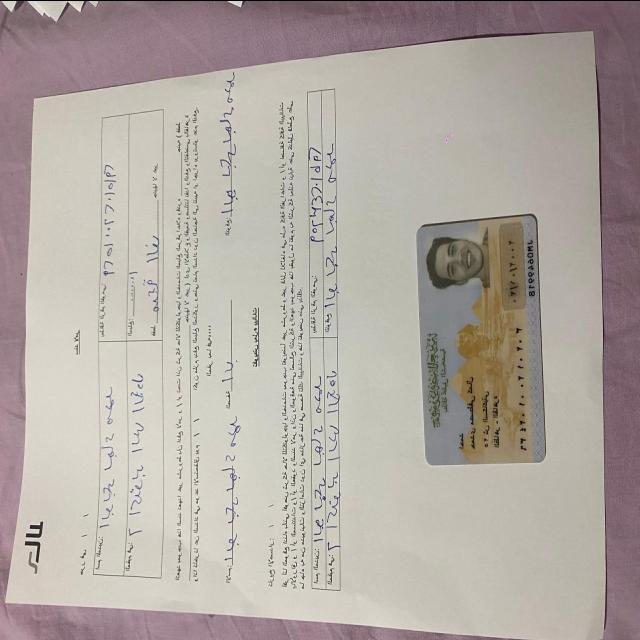id_card: (411, 201, 552, 476)
